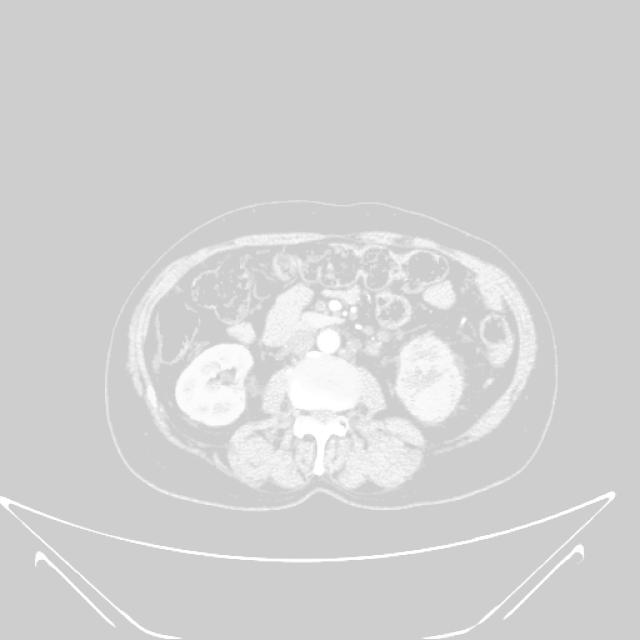TUMOR: (145, 311, 493, 438)
